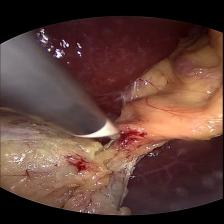Hook: (76, 114, 128, 148)
